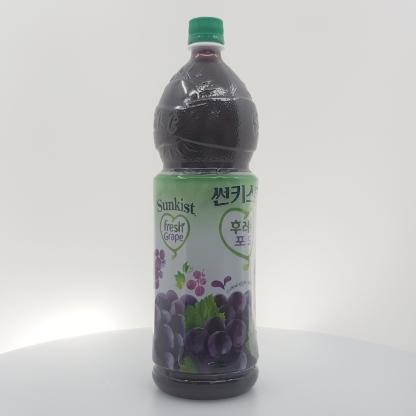-------50_1-5L: (152, 17, 259, 400)
